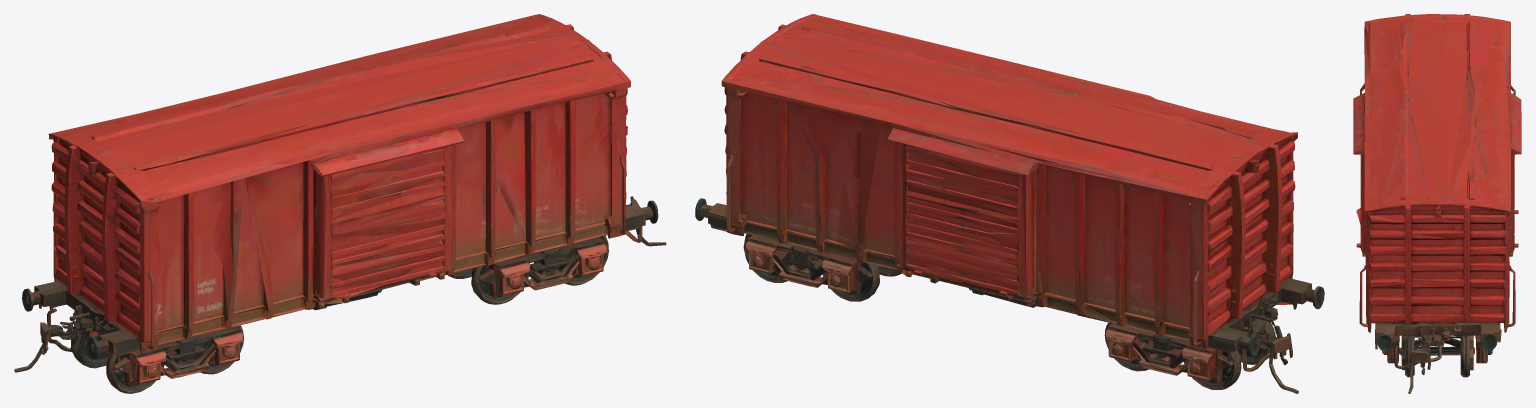
The model's file is boxcar.glb.
The picture shows the model from 3 angles, left to right: view 1: azimuth 30°, elevation 25°; view 2: azimuth 150°, elevation 25°; view 3: azimuth 270°, elevation 25°; orthographic projection. The views are drawn at different scales.
Size of the model in its own units: 1.9 by 0.6729 by 0.5673.
1 material, 1 textured.
